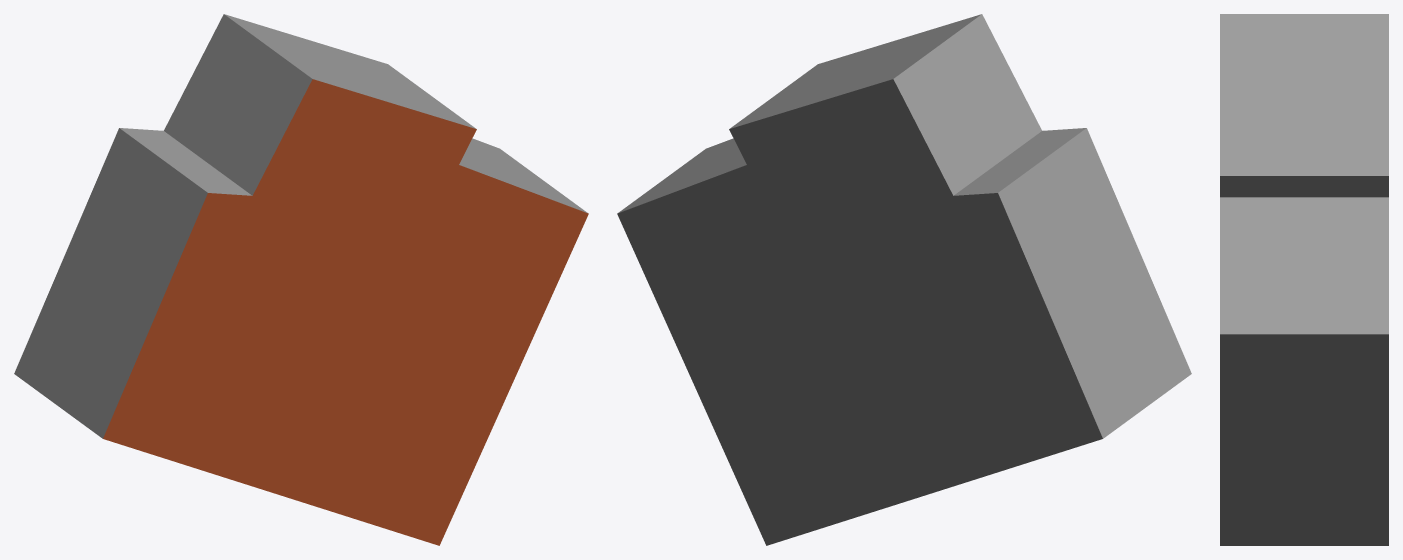
The model's file is construction_5896_assumed_A_Casa_h6m.obj.
3 renders of one model, left to right at view 1: azimuth 30°, elevation 25°; view 2: azimuth 150°, elevation 25°; view 3: azimuth 270°, elevation 25°, orthographic. The views are drawn at different scales.
Parts seen in each view (by area): view 1: construction_5896_assumed_A_Casa; view 2: construction_5896_assumed_A_Casa; view 3: construction_5896_assumed_A_Casa.
Boxes of the visible parts, x1,y1,x2,y2 form: construction_5896_assumed_A_Casa: (14,14,588,545); construction_5896_assumed_A_Casa: (617,14,1191,545); construction_5896_assumed_A_Casa: (1220,14,1388,545).
Bounding box in the file's own units: 18.95 × 18.56 × 6.
